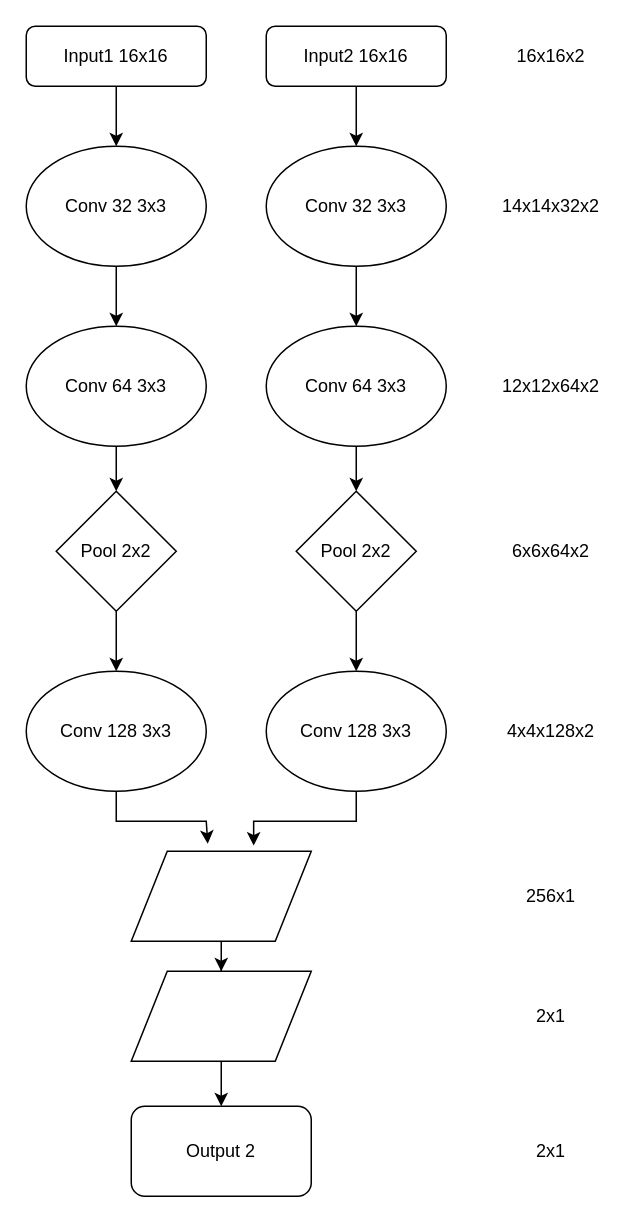
Image size: 626x1223. Some labels were removed from this diagram. Each missing label, with the box of its shape:
Aff 2: (130, 970, 311, 1061)
Aff 256: (130, 850, 311, 941)
